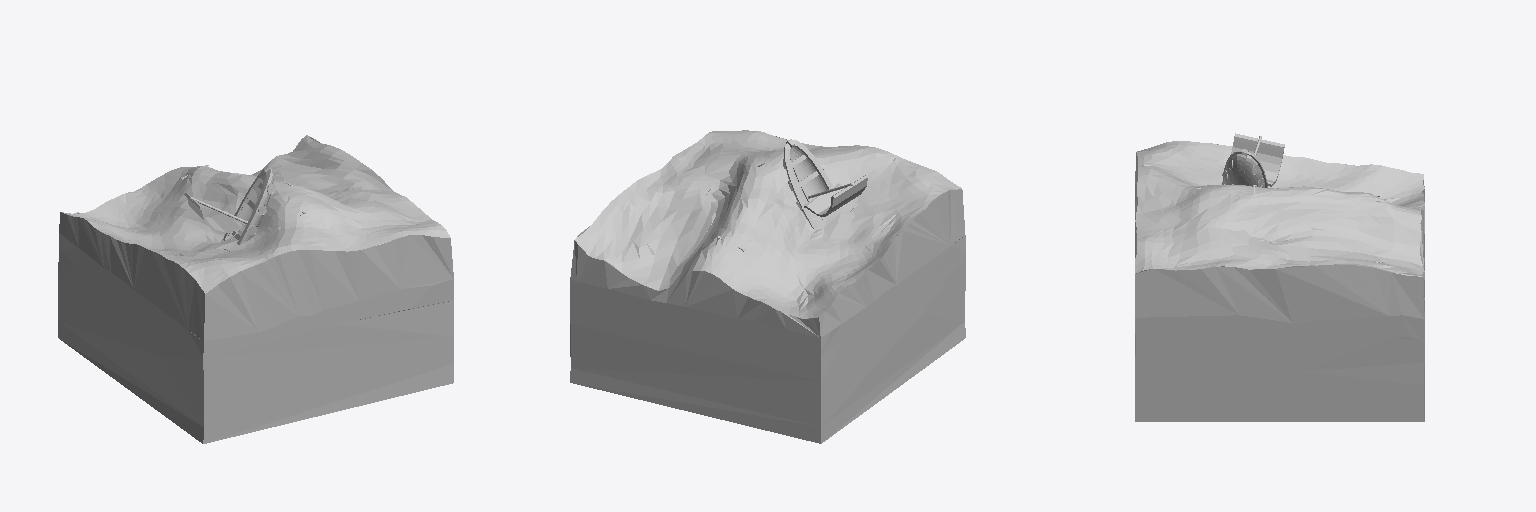
The model's file is TheLastVoyage.obj.
The picture shows the model from 3 angles: view 1: azimuth 30°, elevation 25°; view 2: azimuth 150°, elevation 25°; view 3: azimuth 270°, elevation 25°; orthographic projection.
Parts seen in each view (by area): view 1: VikingSceneDraftOne:polySurface2, VikingSceneDraftOne:Boat; view 2: VikingSceneDraftOne:polySurface2, VikingSceneDraftOne:Boat; view 3: VikingSceneDraftOne:polySurface2, VikingSceneDraftOne:Boat.
Boxes of the visible parts, box(x1,y1,x2,y2) form: VikingSceneDraftOne:polySurface2: box(58, 135, 453, 443); VikingSceneDraftOne:Boat: box(184, 165, 274, 244); VikingSceneDraftOne:polySurface2: box(570, 130, 965, 443); VikingSceneDraftOne:Boat: box(783, 139, 868, 229); VikingSceneDraftOne:polySurface2: box(1135, 141, 1424, 421); VikingSceneDraftOne:Boat: box(1222, 133, 1284, 187).
Bounding box in the file's own units: 2360 × 1878 × 2366.